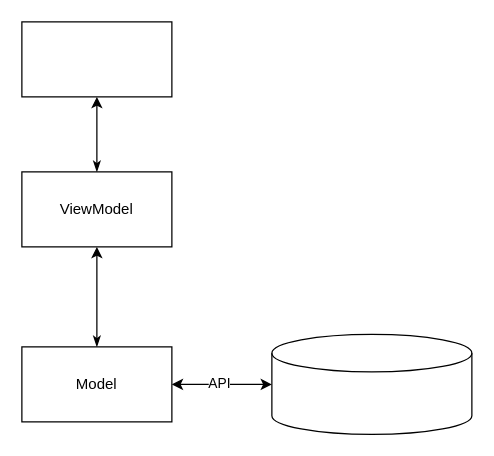
The diagram is 494 pixels wide and 456 high, and some of its shapes have lost their labels. The box of each missing label's shape, as (x1, y1, x2, y2) in pixels:
Server: (271, 333, 472, 434)
View: (21, 21, 172, 97)
